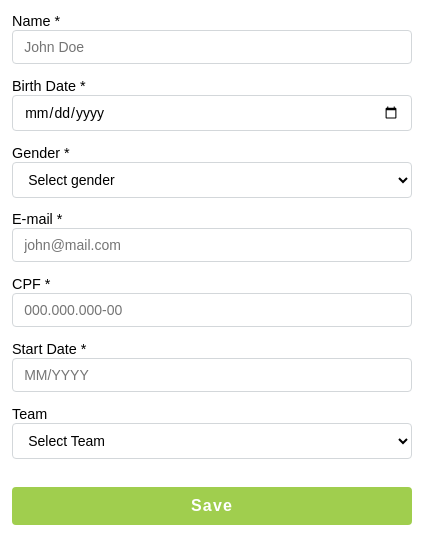
RegistrationForm › should show StartDate error message if StartDate is invalid
Type "Fernando" into the field labelled "Name *". click: (212, 47)
box: [12,30,412,64]
Type "1992-06-13" into the date field labelled "Birth Date *". click: (212, 113)
box: [12,95,412,131]
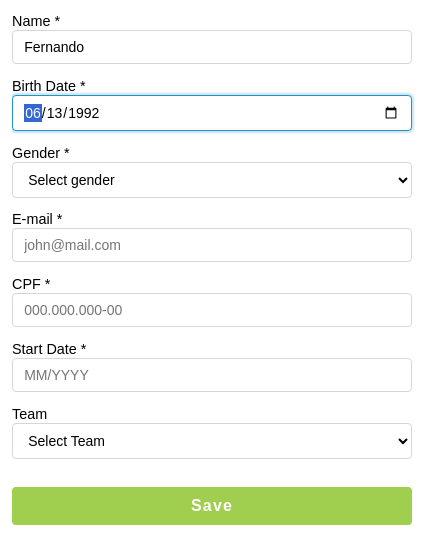
Type "fernando@mail.com" into the field labelled "E-mail *". click: (212, 245)
box: [12,228,412,262]
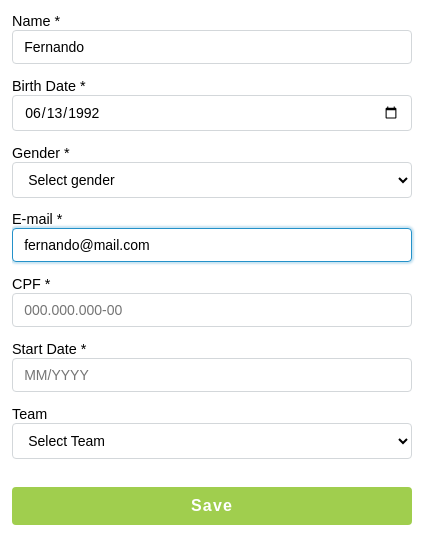
Type "08875457425" into the field labelled "CPF *". click: (212, 310)
box: [12,293,412,327]
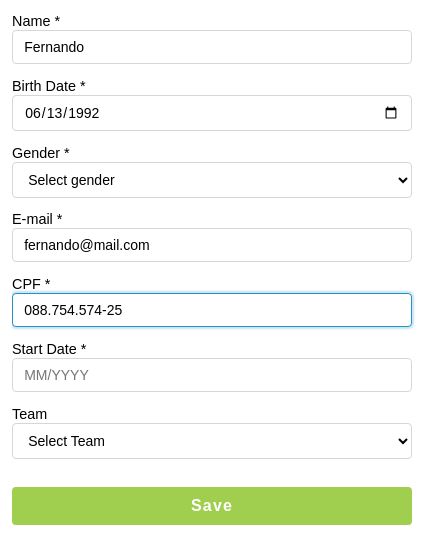
Type "132020" into the field labelled "Start Date *". click: (212, 375)
box: [12,358,412,392]
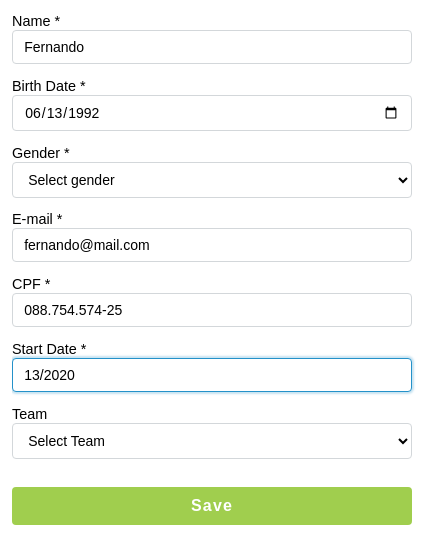
Select "Male" in the dropdown labelled "Gender *". click: (212, 180)
box: [12,162,412,198]
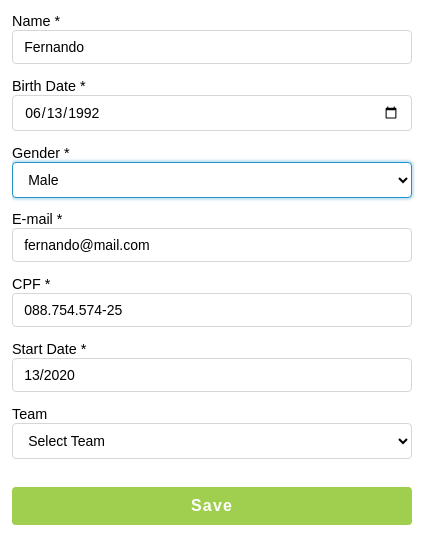
Click the button "Save". click: (212, 506)
box: [12,487,412,525]
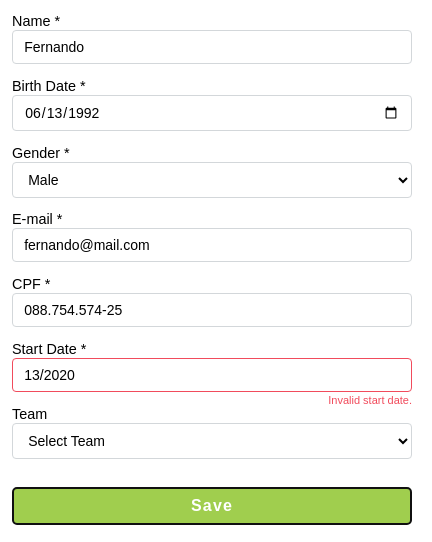
Check: the text "Invalid start date." is shown, box [328,394,412,406]
